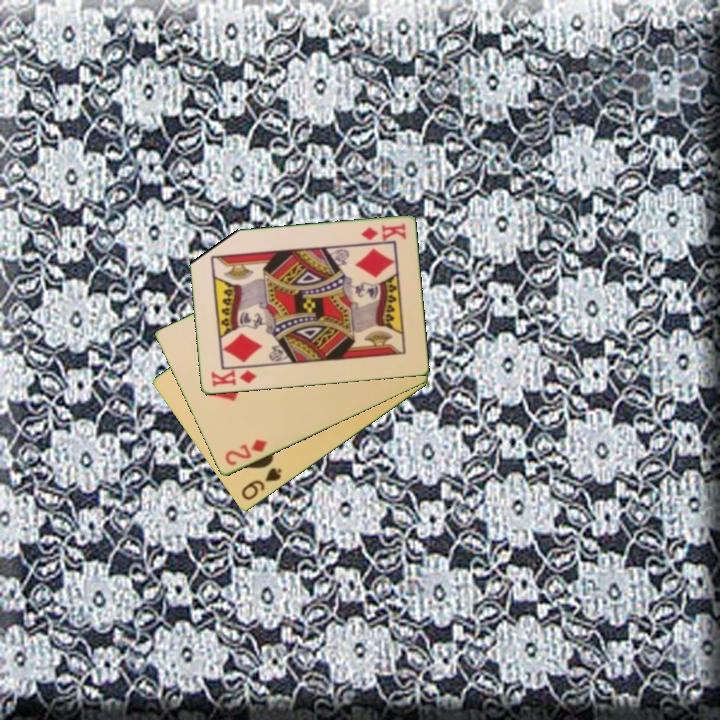2d: (221, 436, 270, 469)
9s: (238, 464, 285, 504)
Kd: (207, 366, 259, 390), (357, 220, 409, 244)
